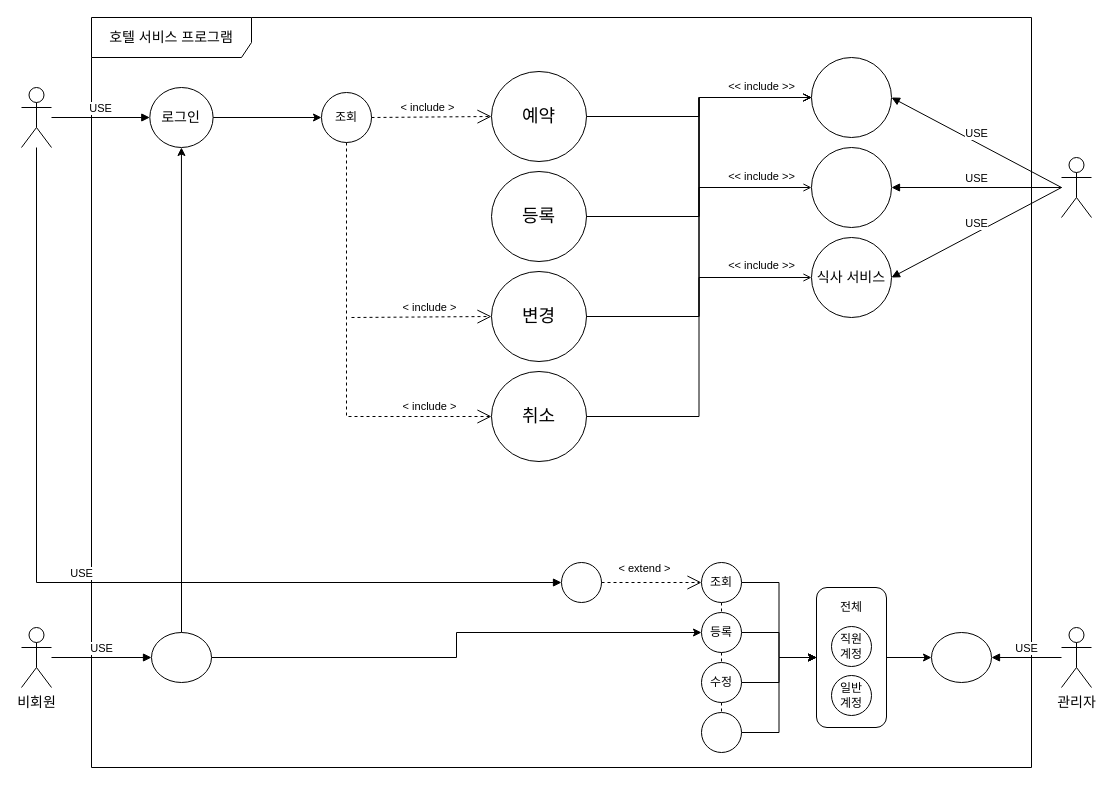
Some shapes in this 1113 by 785 pixel diagram are drawn without their labels. The shapes that lost their labels are listed below. From the top down, each one's box as (x1, y1, x2, y2) in pixels, then its label:
(20, 86, 52, 148): 회원
(810, 56, 892, 138): 객실 서비스
(810, 146, 892, 228): 주차 서비스
(1060, 156, 1092, 218): 직원
(560, 562, 602, 602): 나의 정보
(150, 632, 212, 682): 회원가입
(930, 632, 992, 682): 회원관리
(700, 712, 742, 752): 삭제
